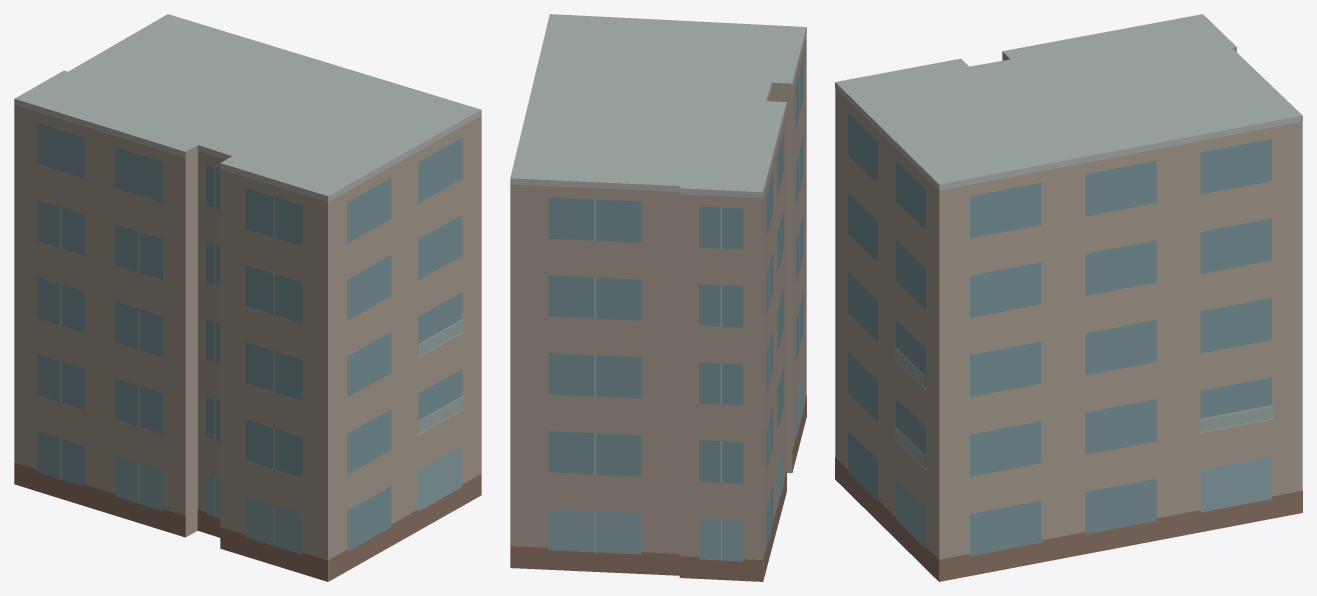
The model's file is survey-upis-32705091.glb.
The picture shows the model from 3 angles, left to right: view 1: azimuth 30°, elevation 25°; view 2: azimuth 150°, elevation 25°; view 3: azimuth 270°, elevation 25°; orthographic projection. The views are drawn at different scales.
Visible parts, largest first — view 1: survey-upis-32705091.tmp; view 2: survey-upis-32705091.tmp; view 3: survey-upis-32705091.tmp.
Part boxes in pixels (x1,y1,x2,y2): survey-upis-32705091.tmp: (14,14,481,581); survey-upis-32705091.tmp: (510,14,806,581); survey-upis-32705091.tmp: (835,14,1302,581).
Size of the model in its own units: 14.37 by 15.6 by 16.65.
